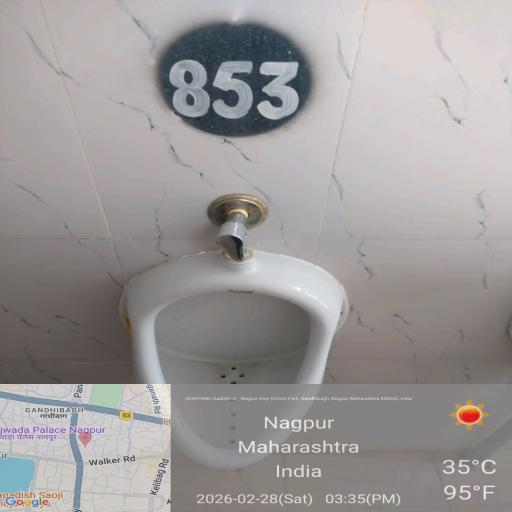clean_floor: (60, 26, 450, 201)
clean_urinal: (114, 238, 360, 463)
